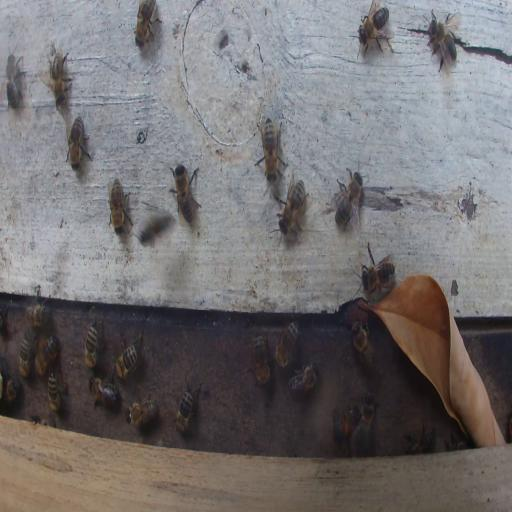bee: (425, 9, 459, 74), (354, 2, 393, 58), (170, 160, 201, 226), (333, 169, 364, 232), (278, 176, 309, 236), (361, 246, 395, 292), (48, 46, 71, 112), (114, 331, 142, 381), (133, 0, 161, 48), (273, 320, 300, 369), (108, 179, 132, 234), (173, 385, 201, 432), (66, 115, 90, 168), (328, 404, 352, 457), (352, 394, 377, 444), (33, 333, 60, 379), (5, 50, 25, 110), (261, 116, 279, 180), (137, 209, 172, 241), (125, 394, 158, 427), (350, 320, 373, 366), (405, 420, 437, 453), (287, 362, 318, 396), (89, 375, 118, 409), (252, 332, 270, 386), (27, 288, 51, 328), (84, 322, 100, 370), (47, 372, 62, 412), (19, 334, 31, 380), (3, 376, 20, 405)
